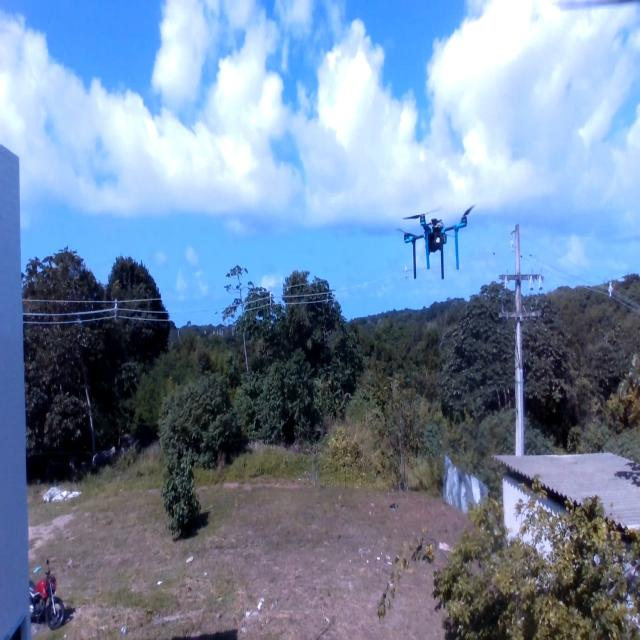-uav-: (389, 192, 482, 287)
